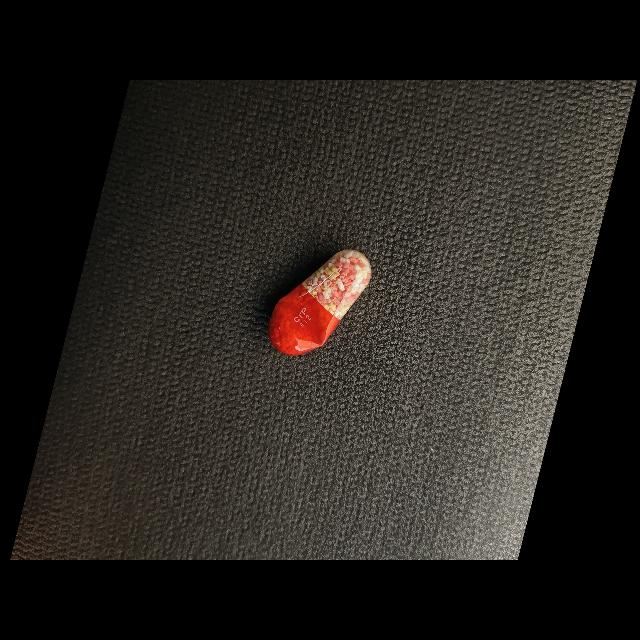Defective Capsule: (269, 250, 372, 355)
